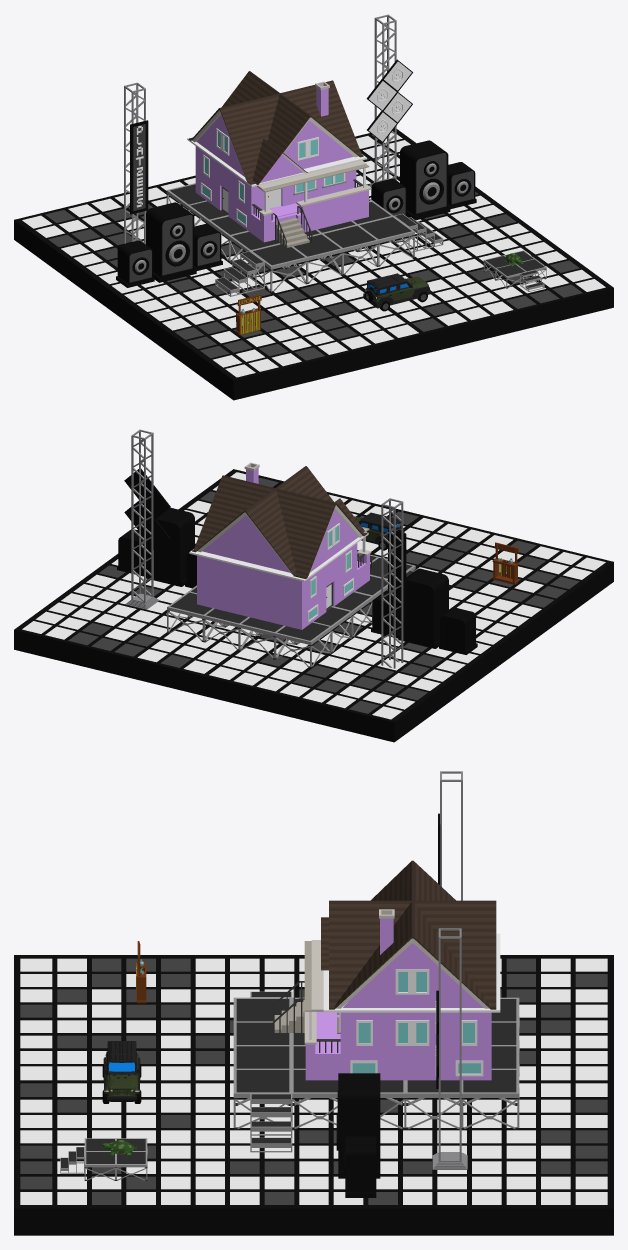
3 views of the same model, one above another, from view 1: azimuth 30°, elevation 25°; view 2: azimuth 150°, elevation 25°; view 3: azimuth 270°, elevation 25° (orthographic). The views are drawn at different scales.
Visible parts, largest first — view 1: Cube.008, Cube.391, VEHICLES_JEEP, OBJRANDOM_LEMONADE_STAND; view 2: Cube.008, Cube.391, VEHICLES_JEEP, OBJRANDOM_LEMONADE_STAND; view 3: Cube.008, Cube.391, VEHICLES_JEEP.
Part boxes in pixels (box(x1,y1,x2,y2)): Cube.008: box(14, 14, 613, 400); Cube.391: box(187, 71, 371, 248); VEHICLES_JEEP: box(363, 273, 430, 311); OBJRANDOM_LEMONADE_STAND: box(235, 294, 261, 335); Cube.008: box(14, 429, 613, 742); Cube.391: box(189, 462, 372, 629); VEHICLES_JEEP: box(354, 512, 404, 550); OBJRANDOM_LEMONADE_STAND: box(492, 542, 518, 584); Cube.008: box(14, 771, 613, 1235); Cube.391: box(272, 860, 500, 1080); VEHICLES_JEEP: box(102, 1041, 141, 1103).
Bounding box in the file's own units: 4000 × 2124 × 4000.
45 materials, 1 textured.
